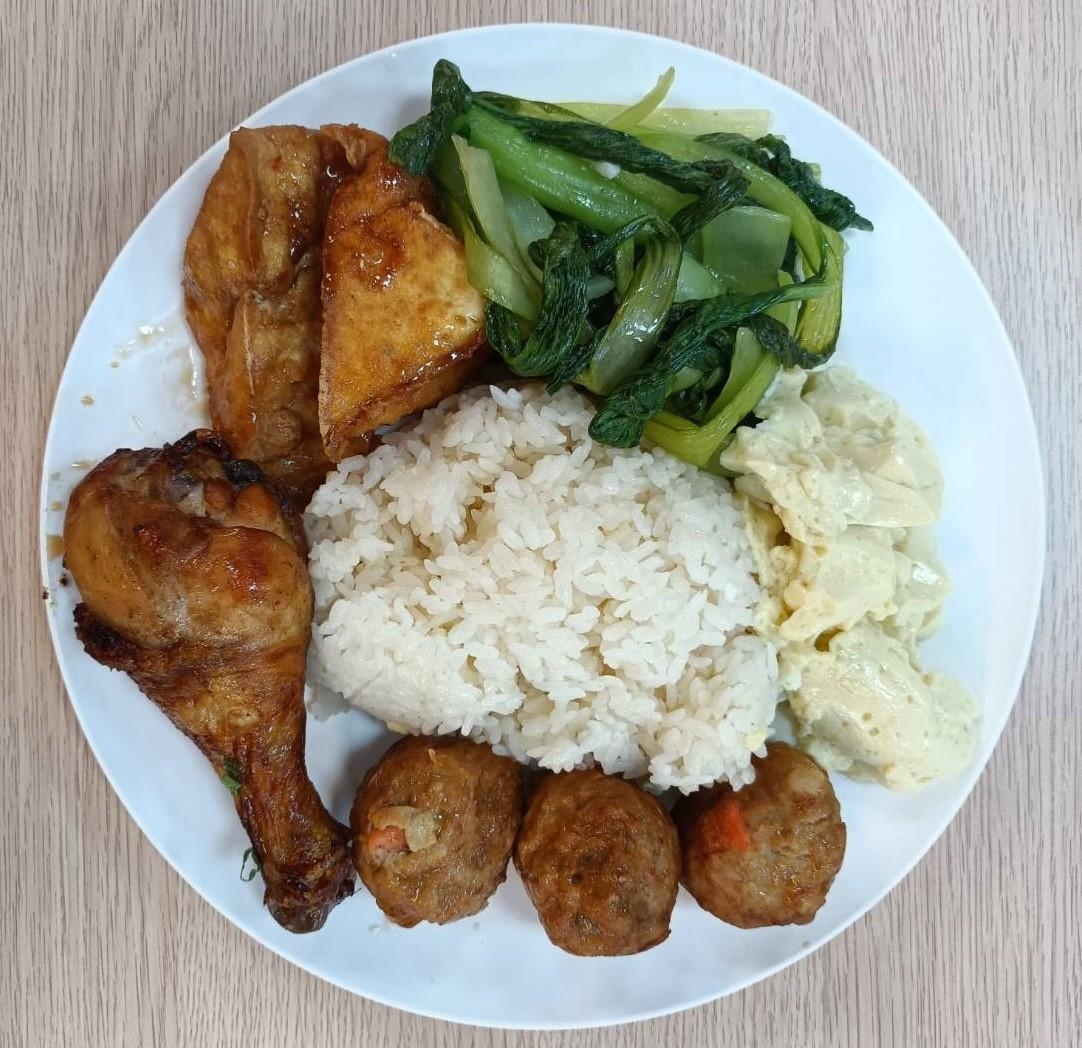big fried chicken leg: (16, 13, 1048, 1037)
big herbal chicken leg: (296, 370, 781, 788)
braised fish fillet: (416, 70, 850, 450), (176, 118, 473, 496), (732, 356, 990, 778)
braised pork: (58, 425, 358, 945), (340, 733, 848, 961)
